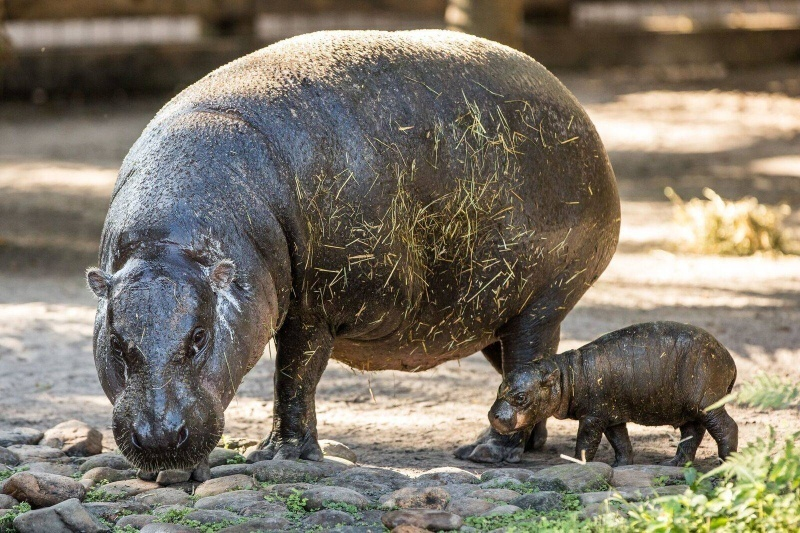hipopotamo: (75, 25, 638, 492), (480, 315, 746, 466)
